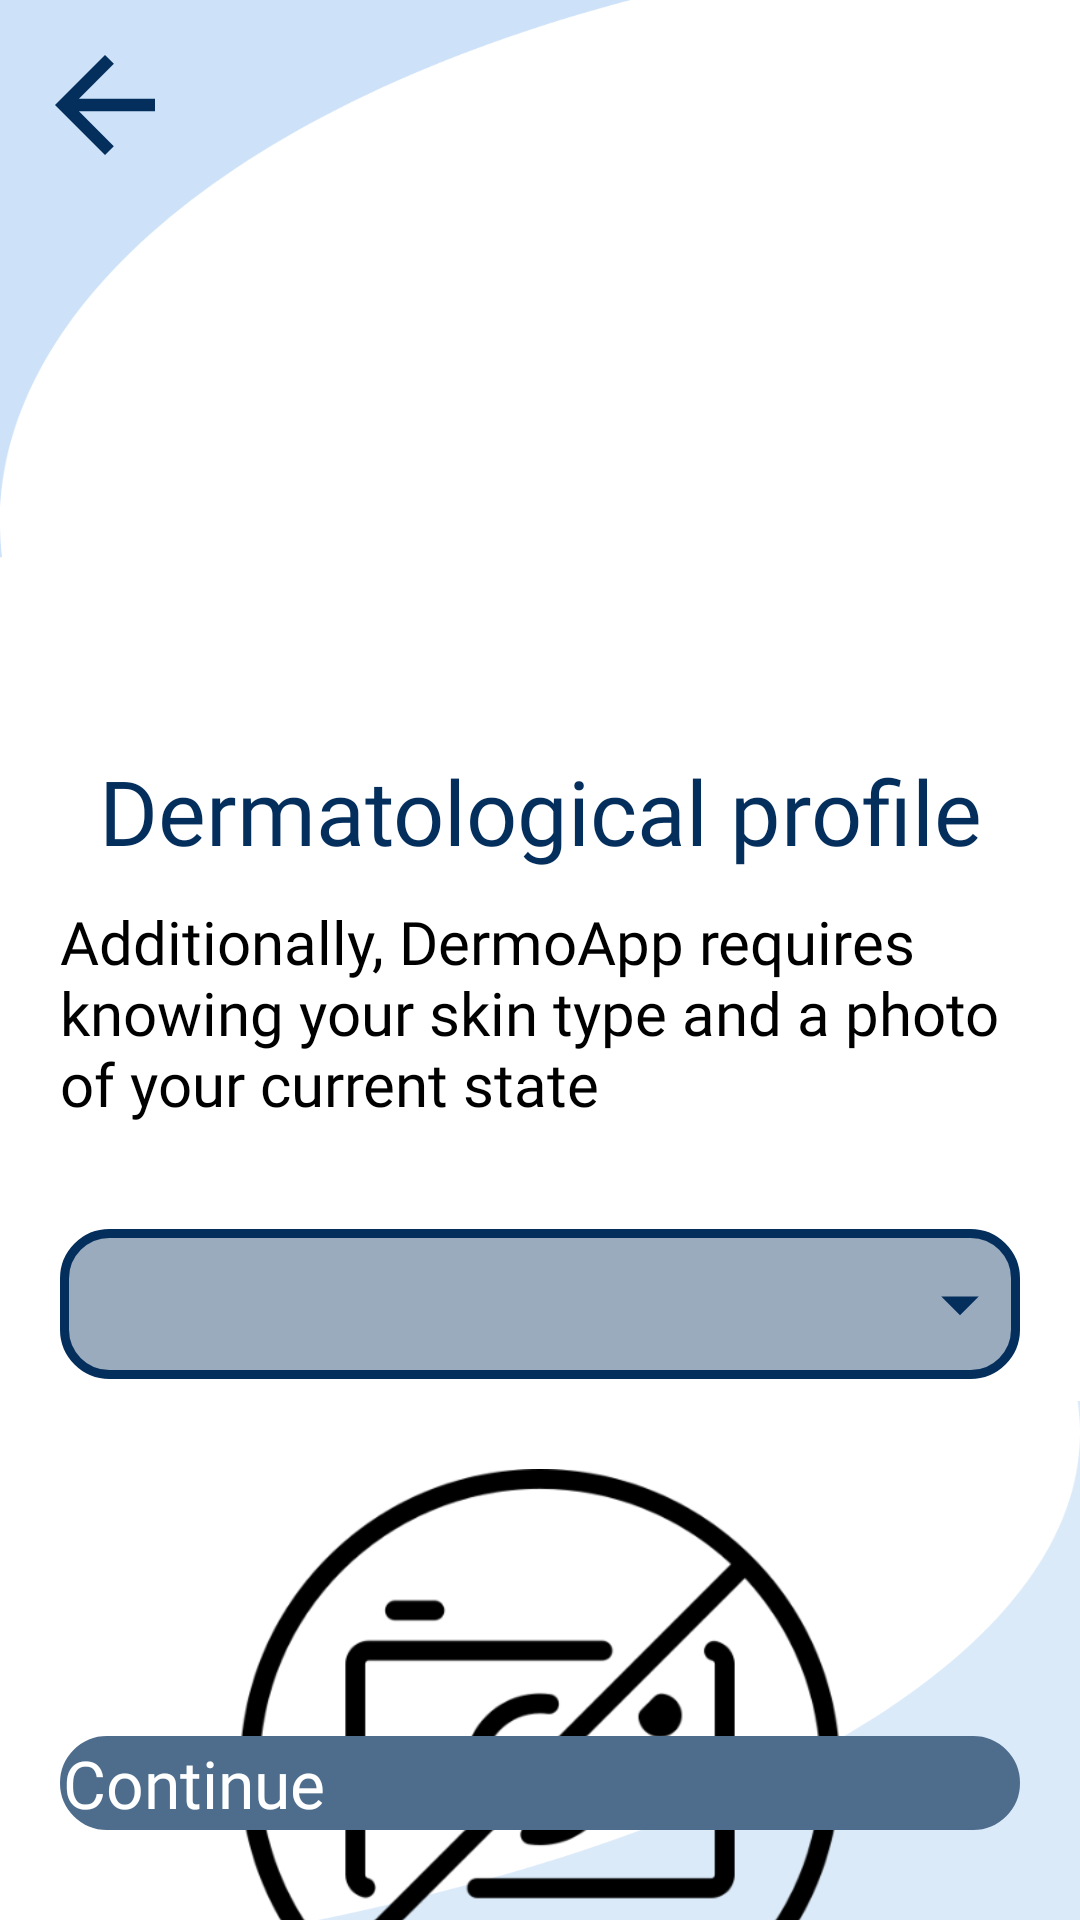

Where to tap for icons on this 1080w x 1920h app screen, as point (x, y):
Back icon: point (105, 105)
